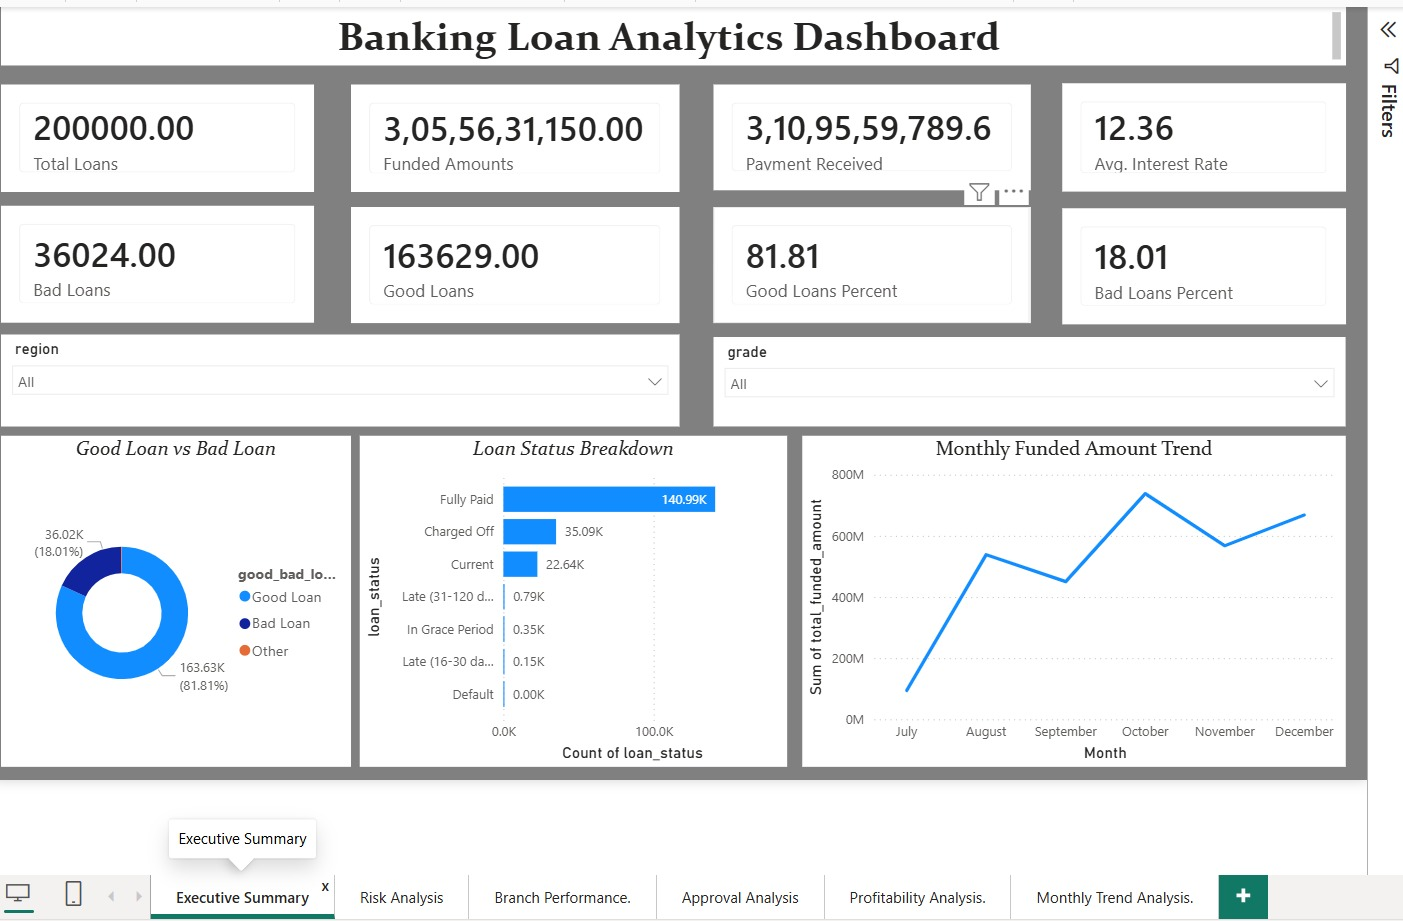

The dashboard page shown, as its layout file describes it:
{"tool":"powerbi","page":{"name":"Executive Summary","canvas":[1280,720],"ordinal":0},"visuals":[{"type":"textbox","box":[9.3,0,1251.2,54.7],"z":0},{"type":"cardVisual","fields":{"Data":["Sum(Executive Summary.total_loans)"]},"box":[8.8,71.9,291.4,99.6],"z":1000},{"type":"cardVisual","fields":{"Data":["Sum(Executive Summary.good_loans)"]},"box":[334.6,185.7,305.6,108],"z":2000},{"type":"cardVisual","fields":{"Data":["Sum(Executive Summary.bad_loan_percentage)"]},"box":[996.5,187.2,264,108.1],"z":3000},{"type":"cardVisual","fields":{"Data":["Sum(Executive Summary.total_funded_amount)"]},"box":[334.6,72.4,305.6,100.1],"z":4000},{"type":"cardVisual","fields":{"Data":["Sum(Executive Summary.bad_loans)"]},"box":[8.8,185.4,291.4,108.5],"z":5000},{"type":"cardVisual","fields":{"Data":["Sum(Executive Summary.avg_interest_rate)"]},"box":[996.5,70.9,264,101.2],"z":6000},{"type":"cardVisual","fields":{"Data":["Sum(Executive Summary.total_payment_received)"]},"box":[671.7,72.4,295,98.8],"z":7000},{"type":"cardVisual","fields":{"Data":["Sum(Executive Summary.good_loan_percentage)"]},"box":[671.7,185.7,295,108],"z":8000},{"type":"donutChart","title":"Good Loan vs Bad Loan","fields":{"Category":["Accepted Loans.good_bad_loan"],"Y":["CountNonNull(Accepted Loans.good_bad_loan)"]},"box":[8.8,398.6,325.4,307.8],"z":9000},{"type":"clusteredBarChart","title":"Loan Status Breakdown","fields":{"Category":["Accepted Loans.loan_status"],"Y":["CountNonNull(Accepted Loans.loan_status)"]},"box":[343.1,398.6,397.3,307.8],"z":10000},{"type":"lineChart","title":"Monthly Funded Amount Trend","fields":{"Category":["Monthly Loan Trend.issue_month.Variation.Date Hierarchy.Month"],"Y":["Sum(Monthly Loan Trend.total_funded_amount)"]},"box":[754.3,398.6,505.8,307.8],"z":11000},{"type":"slicer","fields":{"Values":["Accepted Loans.region"]},"box":[9.2,304.3,630.9,85.6],"z":12000},{"type":"slicer","fields":{"Values":["Accepted Loans.grade"]},"box":[672.3,306.5,587.8,83.2],"z":13000}]}

Visuals, with their boxes in screenshot pixels (x1, y1, x2, y2):
textbox: (0,4,1344,63)
cardVisual - Sum(Executive Summary.total_loans): (0,81,306,189)
cardVisual - Sum(Executive Summary.good_loans): (343,204,674,321)
cardVisual - Sum(Executive Summary.bad_loan_percentage): (1059,206,1344,323)
cardVisual - Sum(Executive Summary.total_funded_amount): (343,82,674,190)
cardVisual - Sum(Executive Summary.bad_loans): (0,204,306,321)
cardVisual - Sum(Executive Summary.avg_interest_rate): (1059,80,1344,190)
cardVisual - Sum(Executive Summary.total_payment_received): (708,82,1027,189)
cardVisual - Sum(Executive Summary.good_loan_percentage): (708,204,1027,321)
"Good Loan vs Bad Loan" donutChart: (0,435,343,767)
"Loan Status Breakdown" clusteredBarChart: (353,435,782,767)
"Monthly Funded Amount Trend" lineChart: (797,435,1344,767)
slicer - Accepted Loans.region: (0,333,674,425)
slicer - Accepted Loans.grade: (708,335,1344,425)
